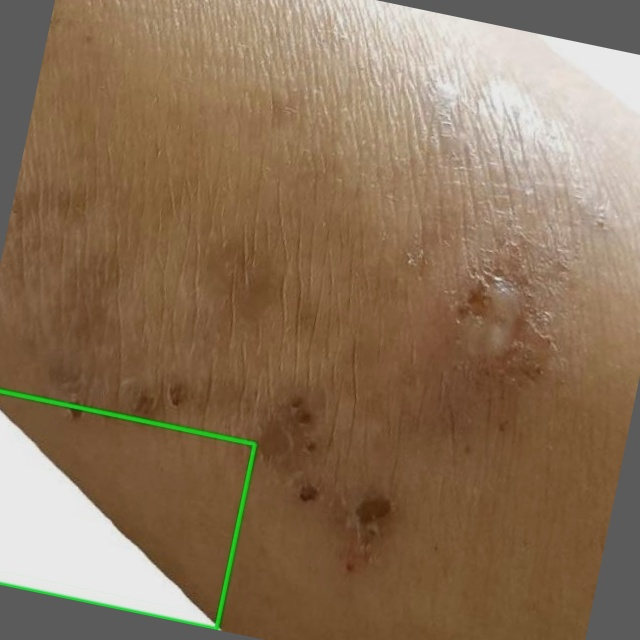Scabies: (0, 391, 254, 628)
